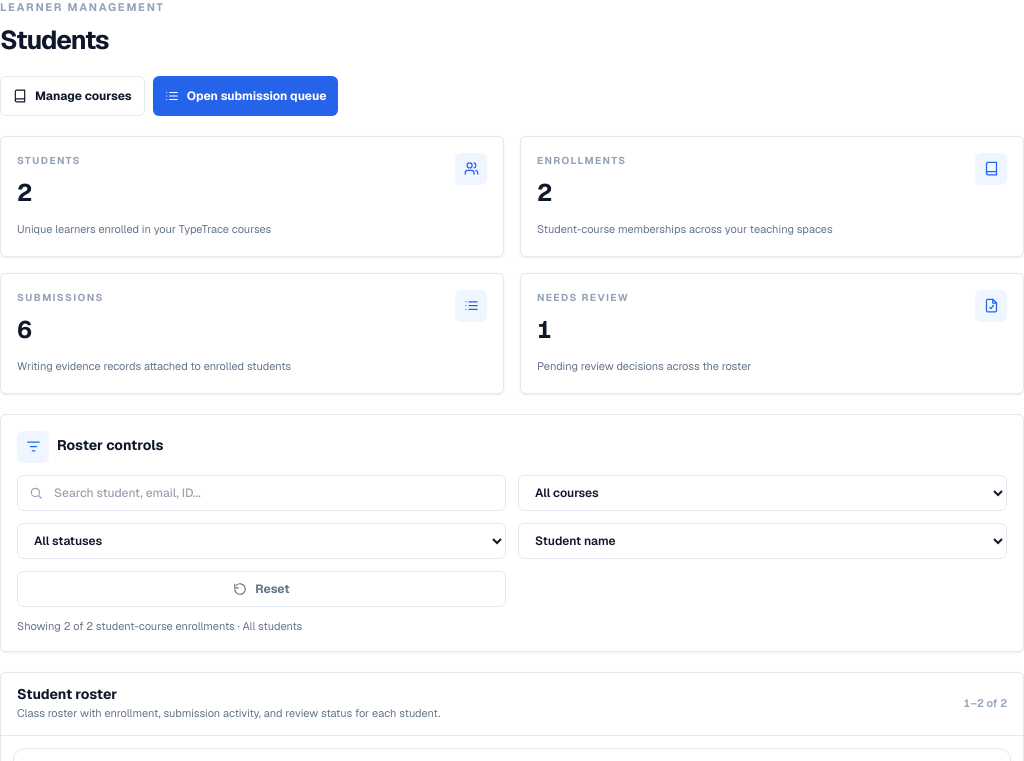
Test: TeacherStudentsPage › filters by search, course, and status, then restores the complete roster
Type "Grace" into the field with placeholder "Search student, email, ID...".
click(262, 492); type("Grace")  # box [17, 474, 506, 510]
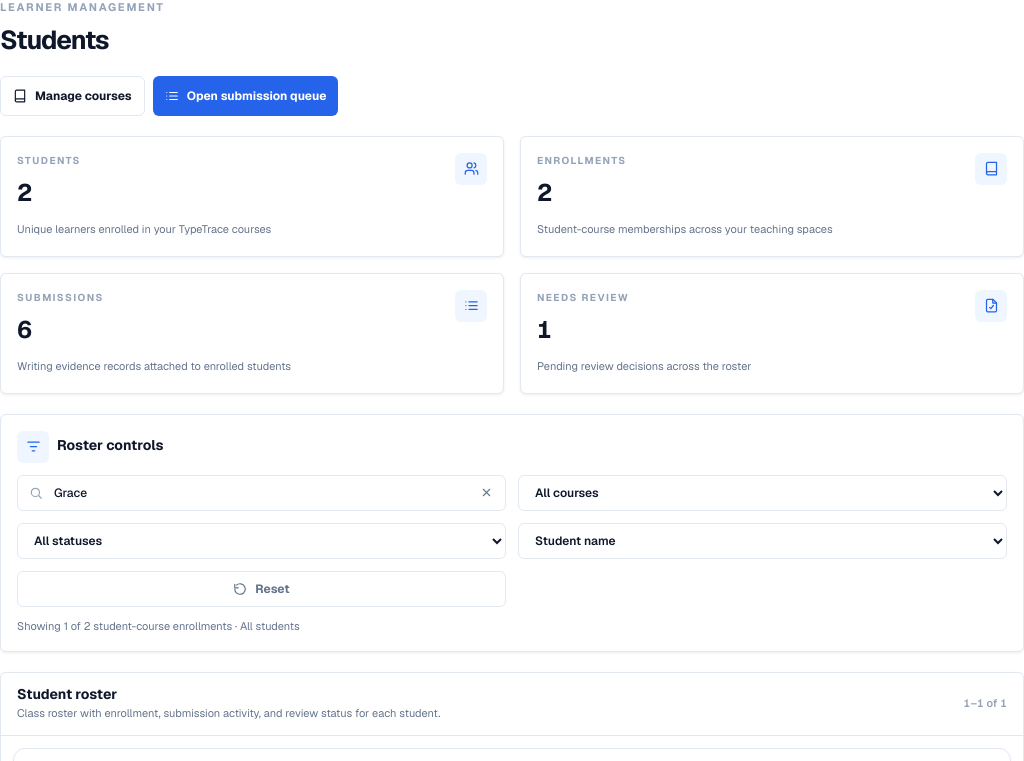
Expected: the text "Alan Turing" is not shown
Now the text "Showing 1 of 2 student-course enrollments · All students" is shown, box [17, 620, 300, 634]
Click the button named "Clear search".
click(486, 492)  # box [474, 480, 498, 504]
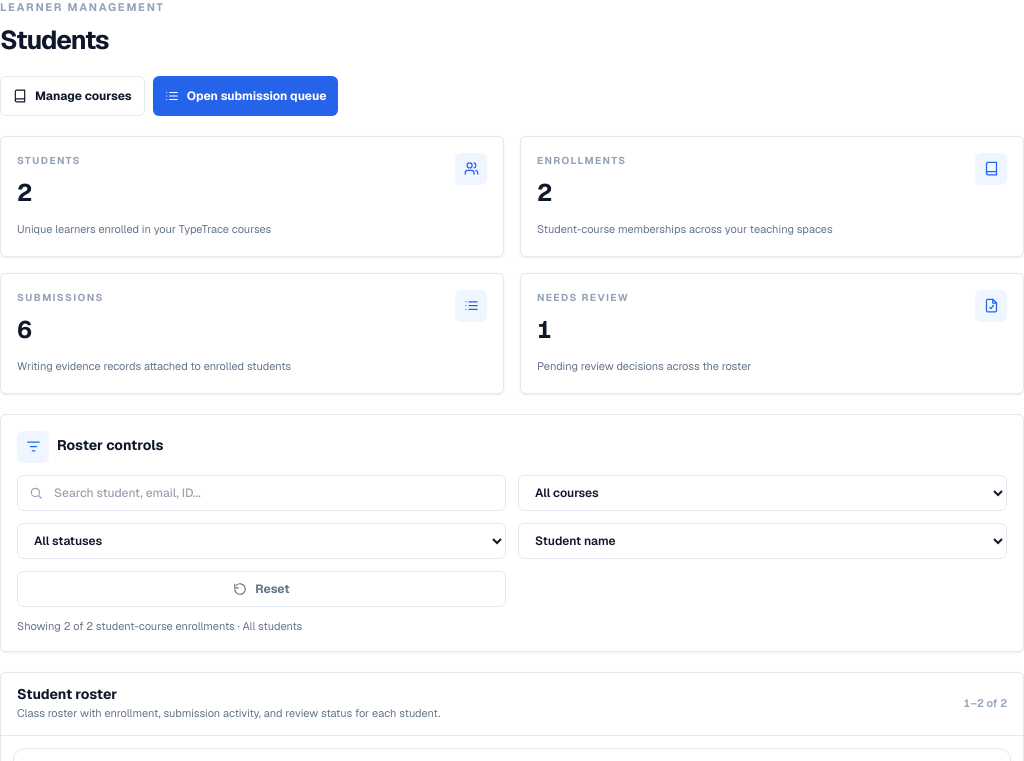
Select "AI402" in the dropdown named "Filter students by course" at (762, 492), box [518, 474, 1007, 510]
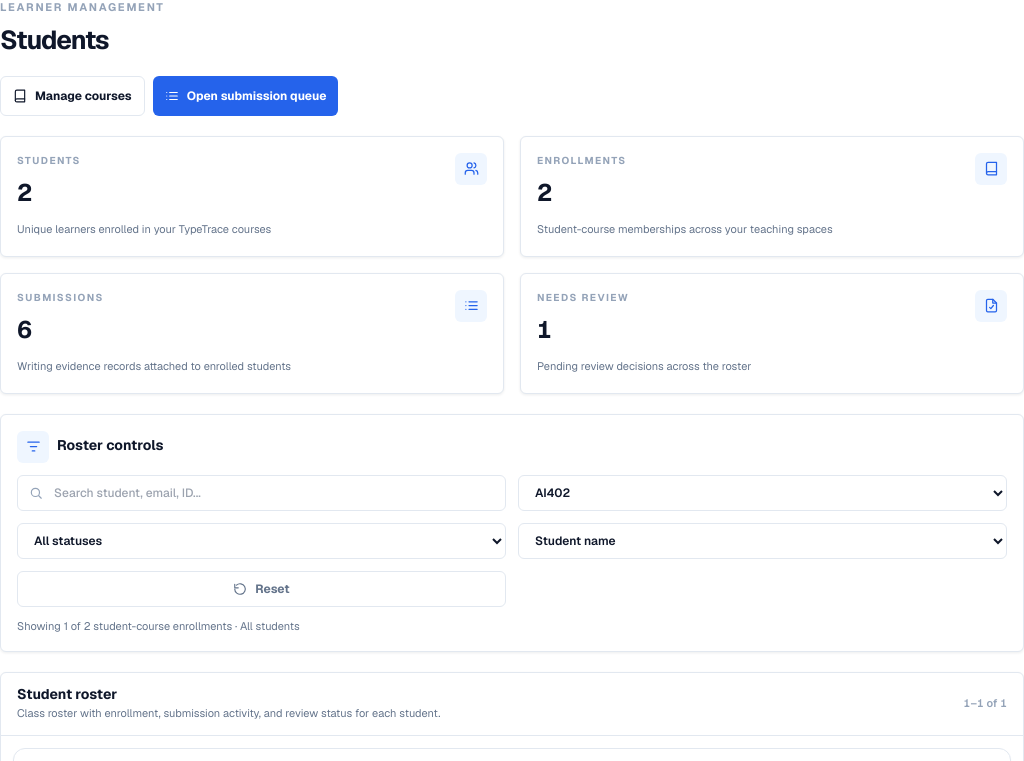
Select "Flagged" in the dropdown named "Filter students by status" at (262, 540), box [17, 522, 506, 558]
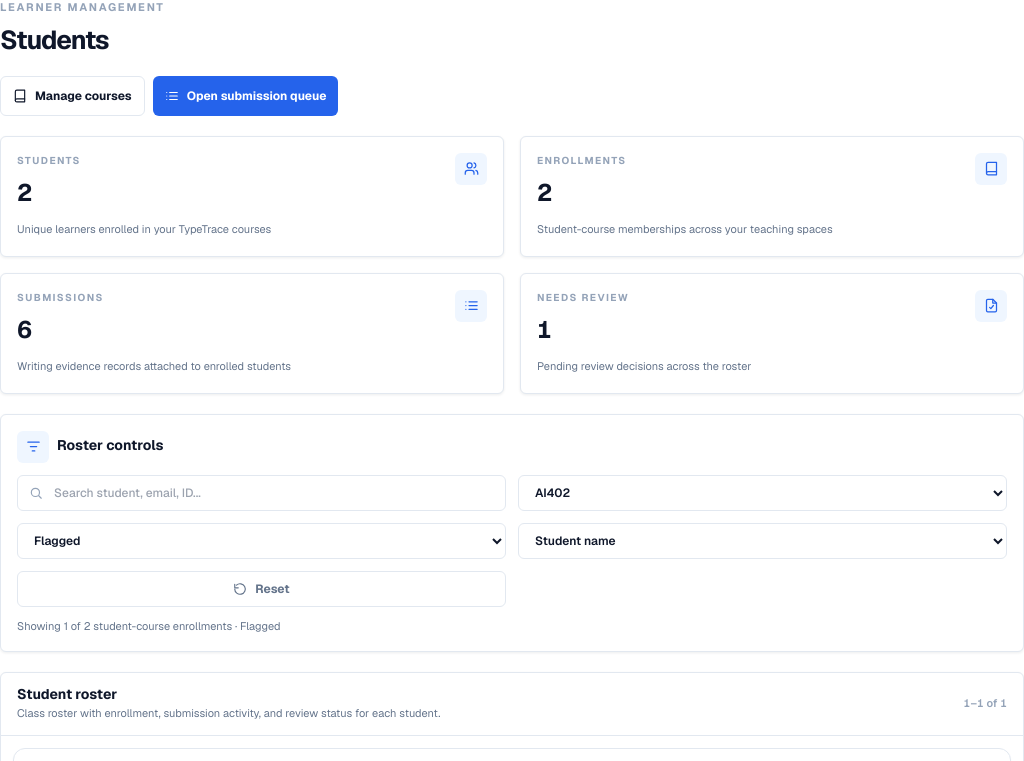
Expected: the text "Grace Hopper" is not shown
Click the button "Reset".
click(262, 588)  # box [17, 570, 506, 606]
(page scrolled)
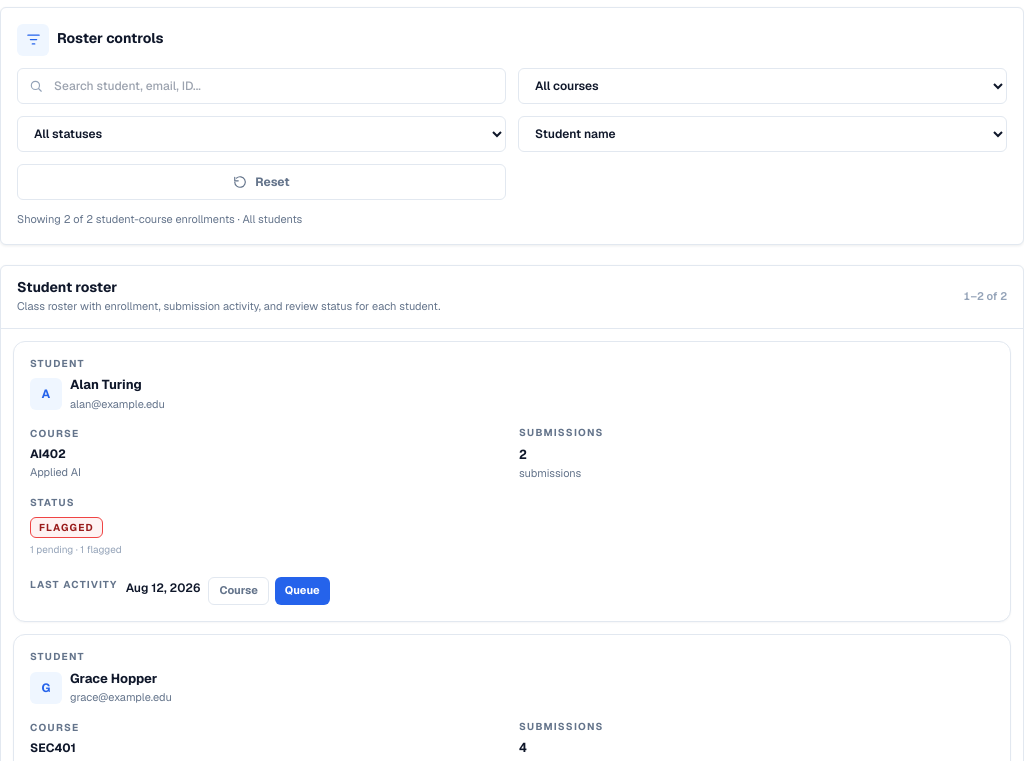
Now the text "Alan Turing" is shown, box [70, 376, 142, 393]
Now the text "Grace Hopper" is shown, box [70, 669, 172, 688]
